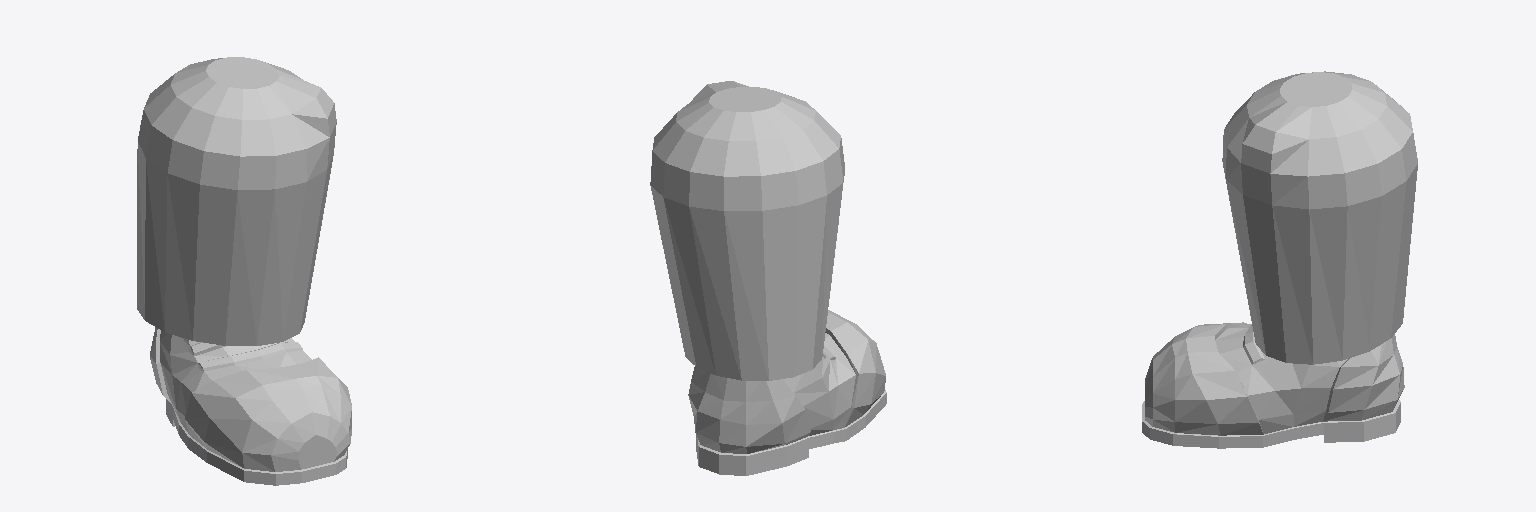
The model's file is LLD.obj.
3 renders of one model, left to right at view 1: azimuth 30°, elevation 25°; view 2: azimuth 150°, elevation 25°; view 3: azimuth 270°, elevation 25°, orthographic.
Parts seen in each view (by area): view 1: al:lowlegR, al:shoe1R3, al:shoe1R1, al:shoe2R, al:shoe3R1, al:shoe4R, al:shoe1R6, al:shoe1R7, al:shoe1R4; view 2: al:lowlegR, al:shoe1R4, al:shoe3R1, al:shoe2R, al:shoe1R1, al:shoe2R6; view 3: al:lowlegR, al:shoe1R6, al:shoe1R4, al:shoe3R1, al:shoe2R4, al:shoe1R3, al:shoe2R3.
Part boxes in pixels (left/top/right/bottom): al:lowlegR: left=137, top=57, right=336, bottom=345; al:shoe1R3: left=204, top=357, right=350, bottom=471; al:shoe1R1: left=185, top=368, right=301, bottom=466; al:shoe2R: left=160, top=330, right=271, bottom=433; al:shoe3R1: left=166, top=399, right=347, bottom=485; al:shoe4R: left=190, top=342, right=302, bottom=370; al:shoe1R6: left=296, top=376, right=351, bottom=461; al:shoe1R7: left=299, top=435, right=336, bottom=469; al:shoe1R4: left=150, top=327, right=170, bottom=402; al:lowlegR: left=650, top=81, right=844, bottom=380; al:shoe1R4: left=688, top=366, right=810, bottom=453; al:shoe3R1: left=696, top=390, right=886, bottom=475; al:shoe2R: left=783, top=333, right=858, bottom=435; al:shoe1R1: left=826, top=310, right=885, bottom=426; al:shoe2R6: left=834, top=375, right=855, bottom=418; al:lowlegR: left=1222, top=71, right=1417, bottom=364; al:shoe1R6: left=1145, top=339, right=1263, bottom=435; al:shoe1R4: left=1323, top=334, right=1404, bottom=421; al:shoe3R1: left=1142, top=400, right=1400, bottom=448; al:shoe2R4: left=1237, top=357, right=1308, bottom=433; al:shoe1R3: left=1145, top=337, right=1234, bottom=418; al:shoe2R3: left=1294, top=359, right=1346, bottom=426.
Size of the model in its own units: 0.7978 by 1.54 by 1.13.